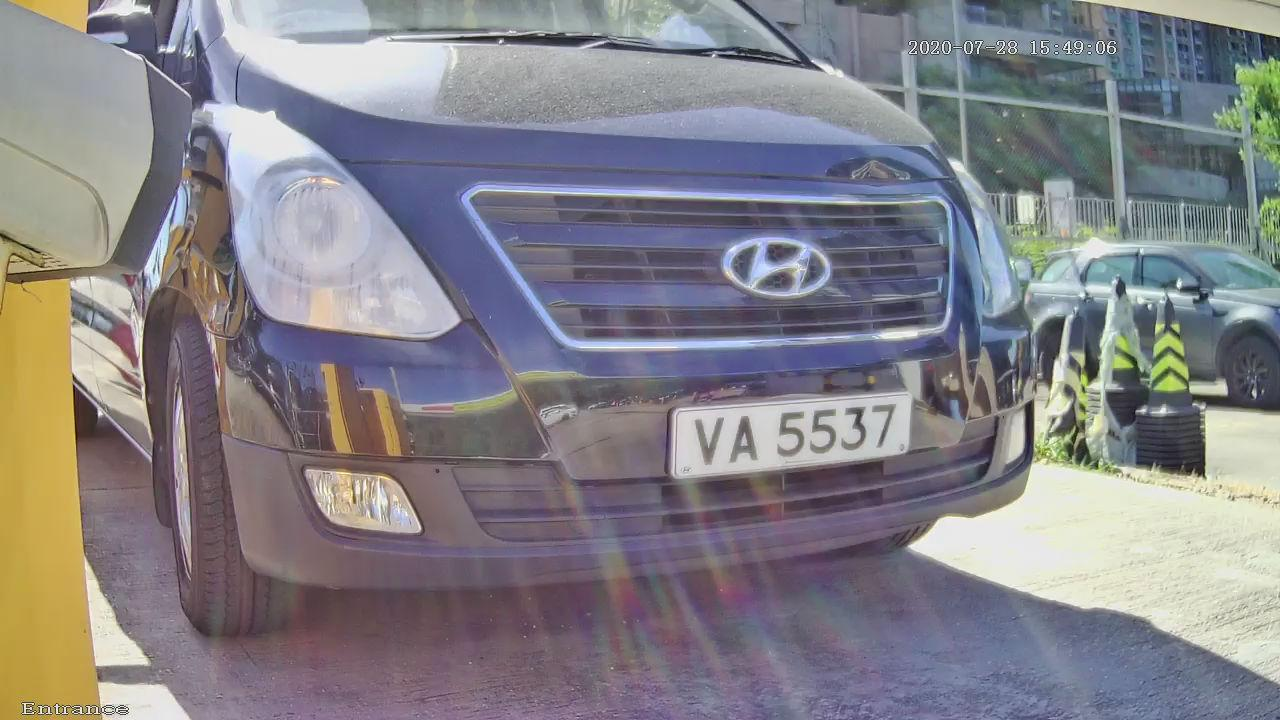privatecar: (23, 4, 1161, 688)
